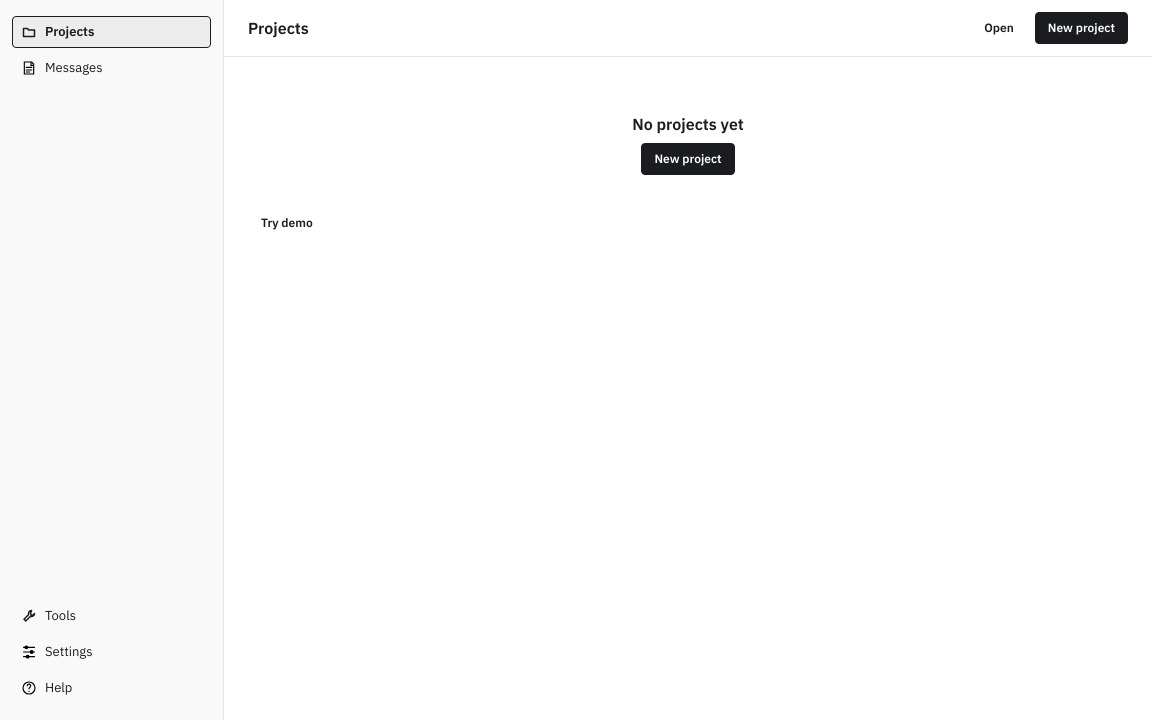
Test case: a failed preferences save keeps the sheet open with the chosen values
Expected: the navigation bar named "Main" is shown, [0, 0, 224, 719]
Click the button "Settings" at (112, 652), box [12, 636, 211, 668]
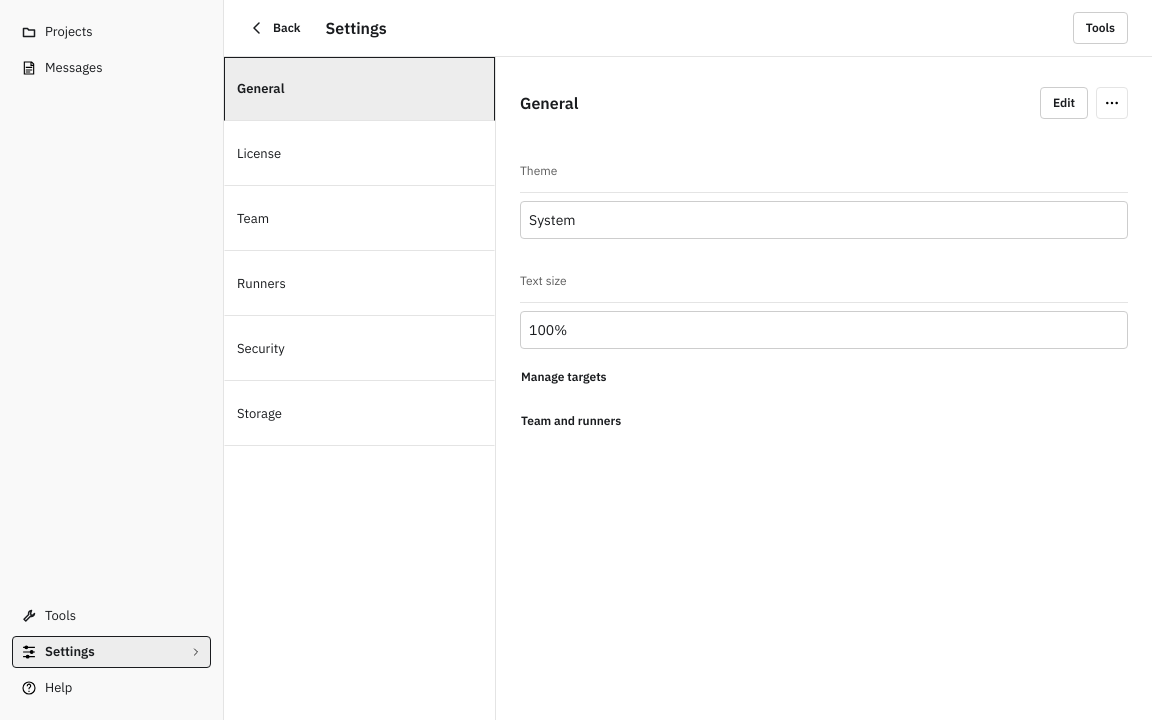
Click the button "General" at (261, 88), box [224, 57, 495, 121]
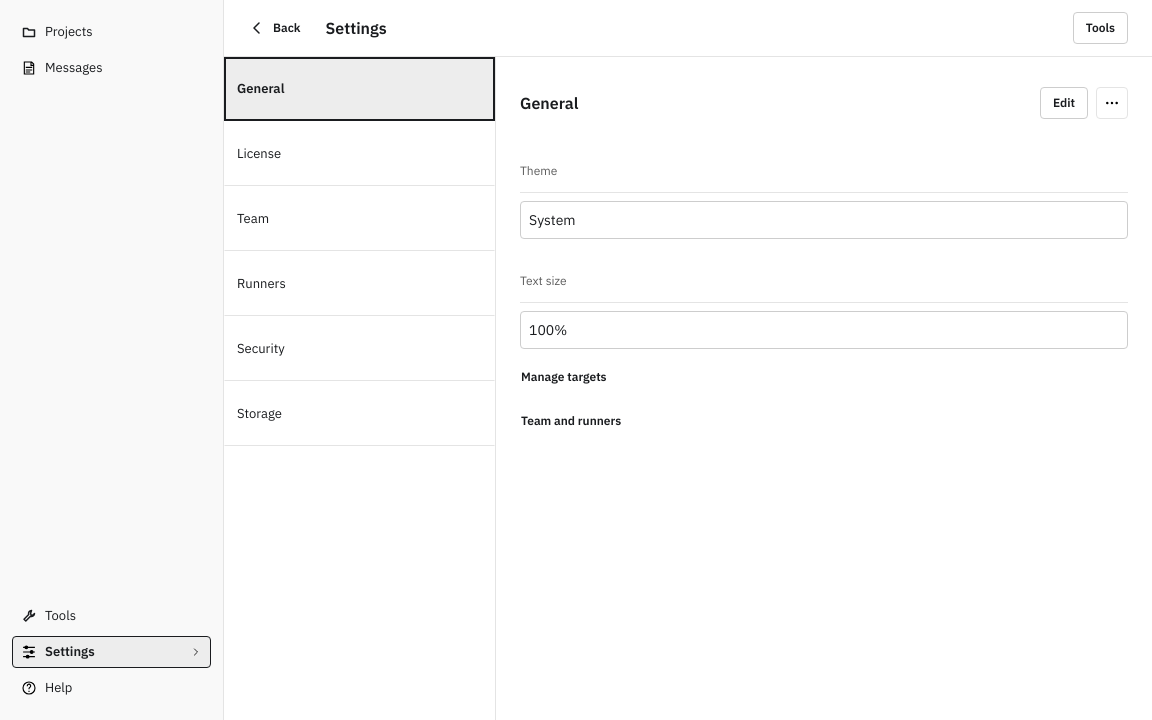
Click the button "Edit" at (1064, 103), box [1040, 87, 1088, 119]
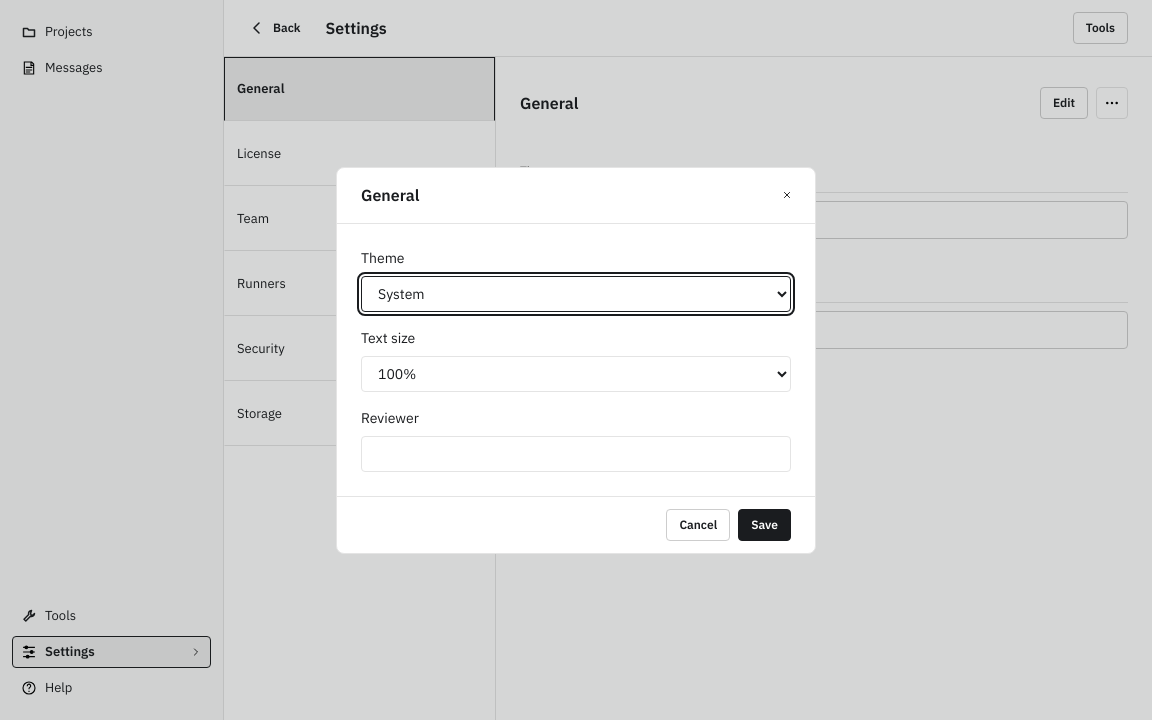
Select "Dark" in the dropdown labelled "Theme" at (576, 294), box [361, 276, 791, 312]
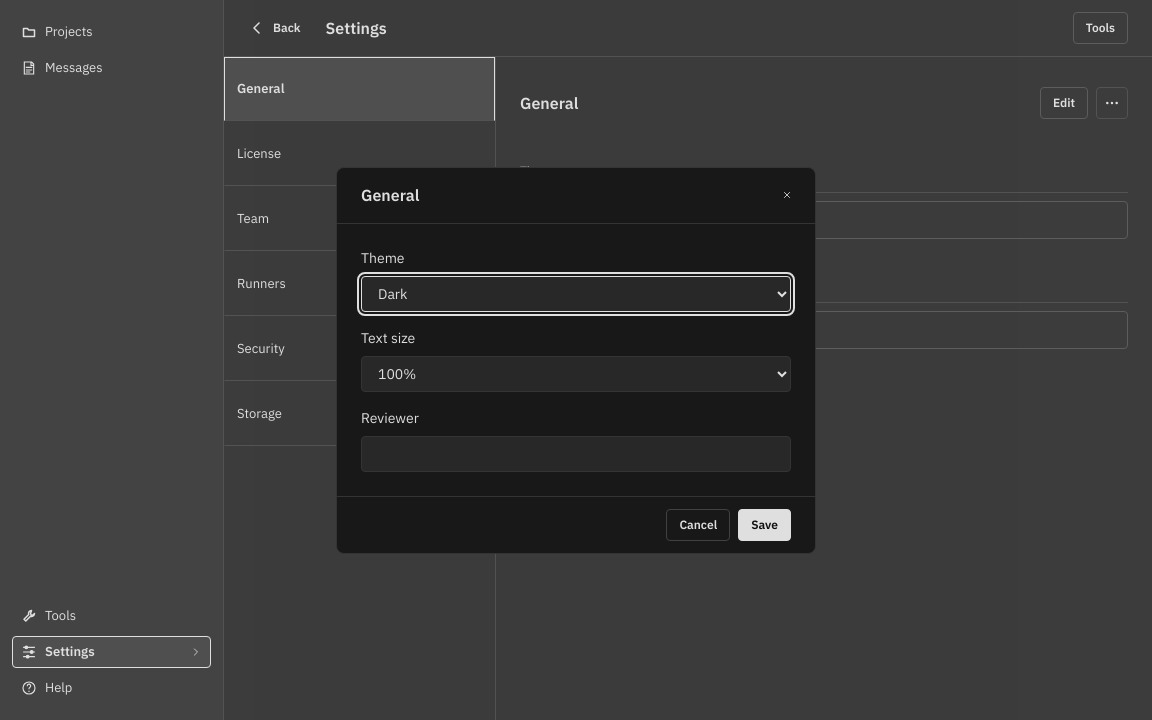
Type "Avery QA" into the field labelled "Reviewer" at (576, 454), box [361, 436, 791, 472]
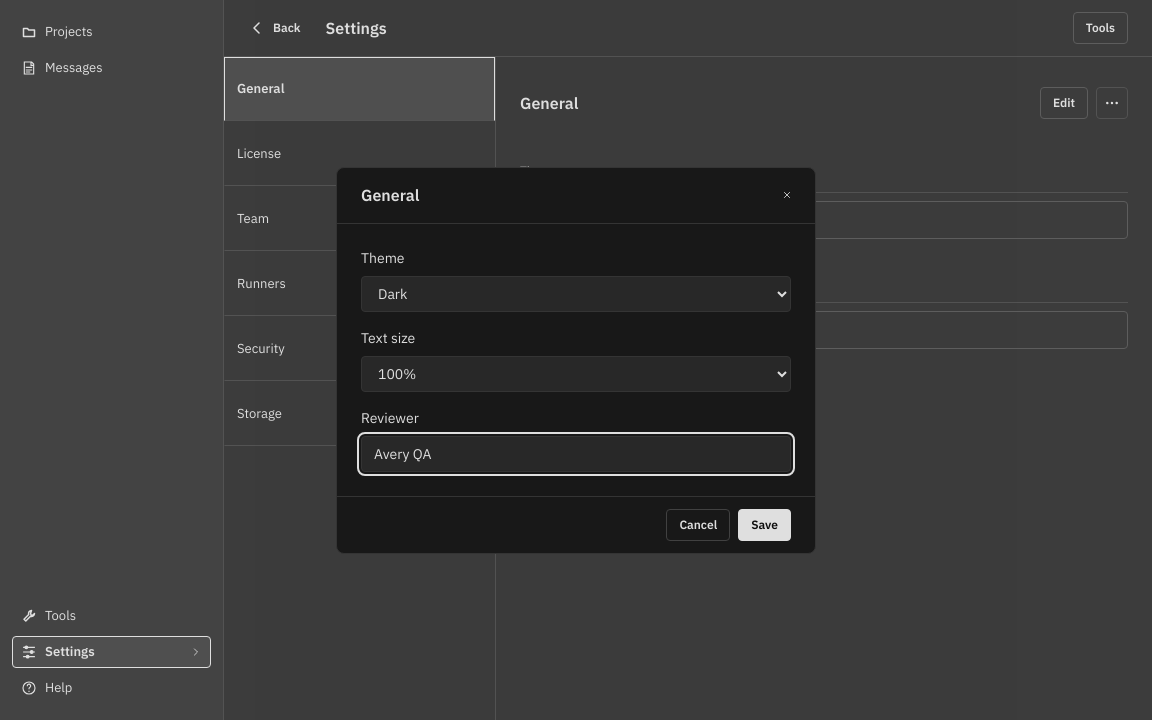
Click the button "Save" at (765, 524), box [738, 508, 791, 540]
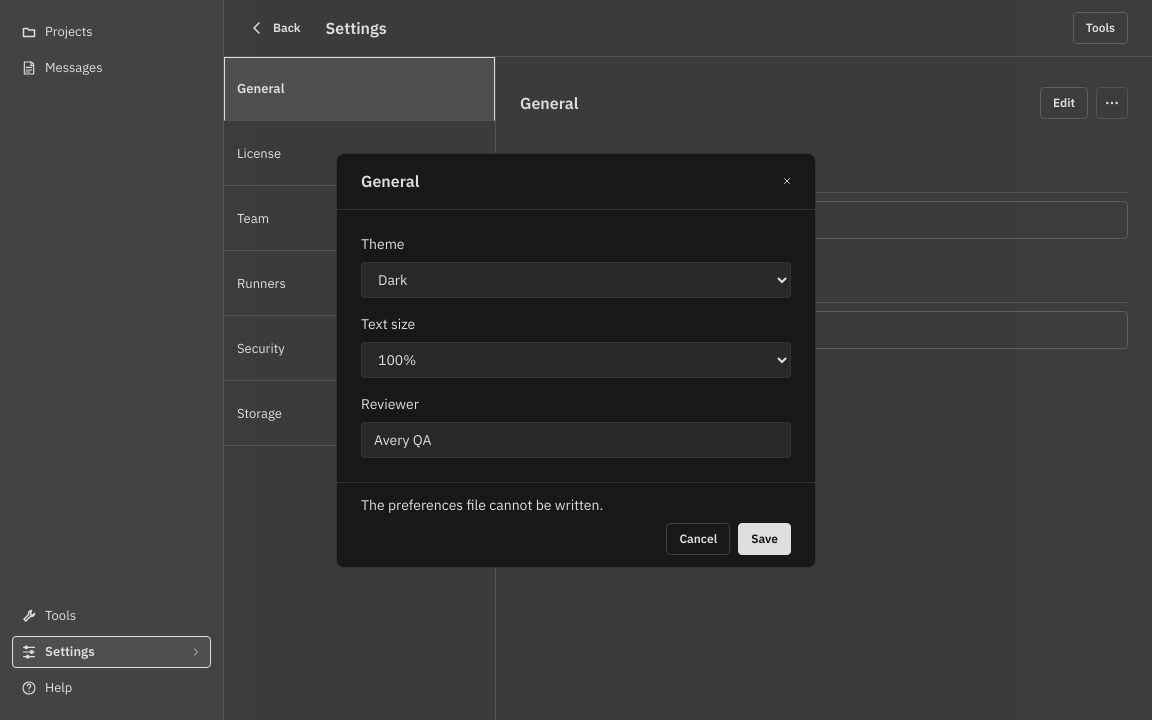
Expected: the dialog "General" is shown, [336, 152, 816, 568]
Expected: the text "The preferences file cannot be written." is shown, [361, 496, 603, 514]
